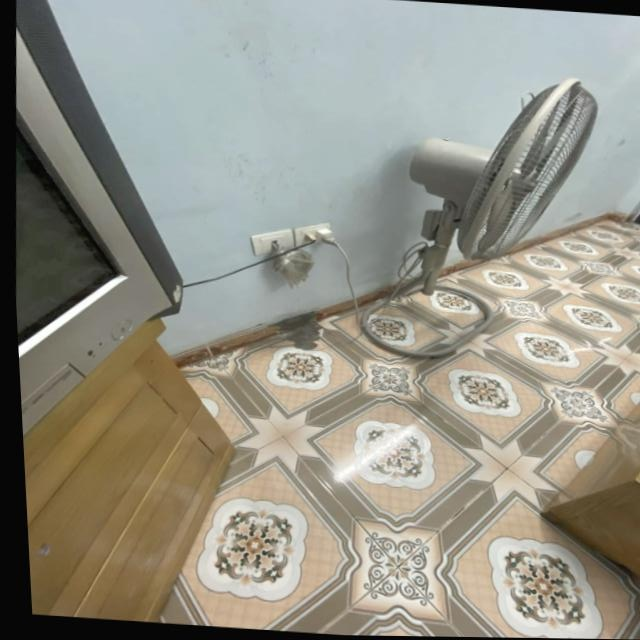outlet: (249, 226, 296, 258), (294, 220, 334, 250)
